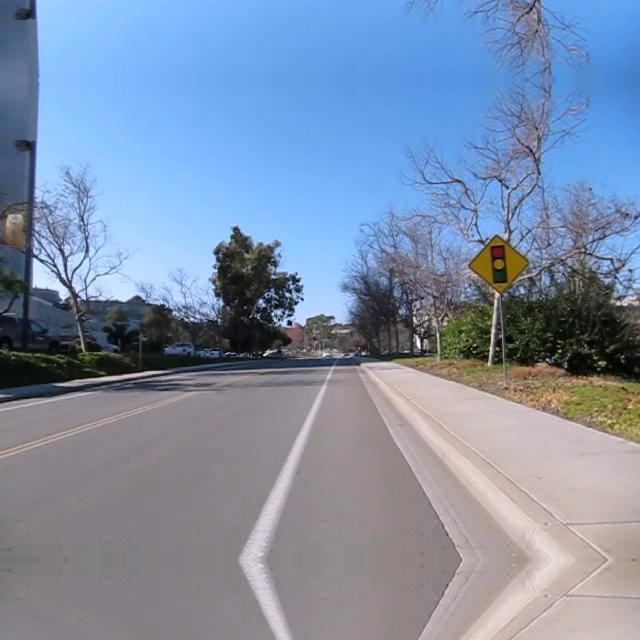signalAhead: (467, 233, 529, 295)
